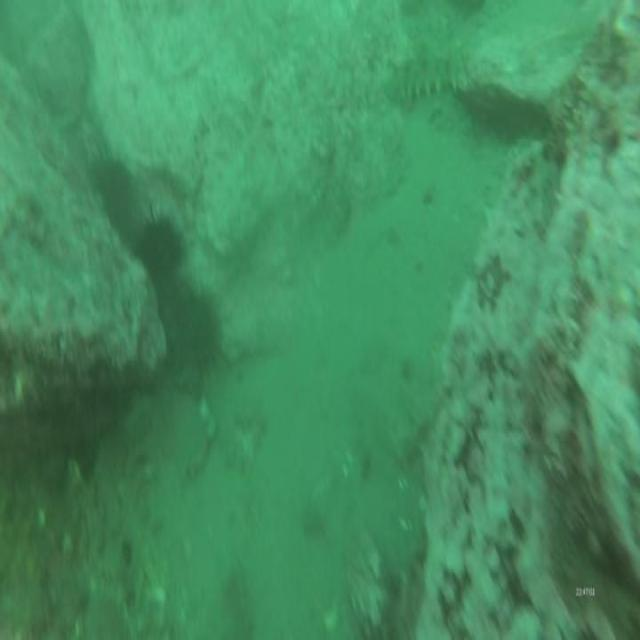echinus: (167, 283, 224, 381), (87, 142, 136, 220), (137, 204, 185, 283)
holothurian: (382, 49, 476, 114)
